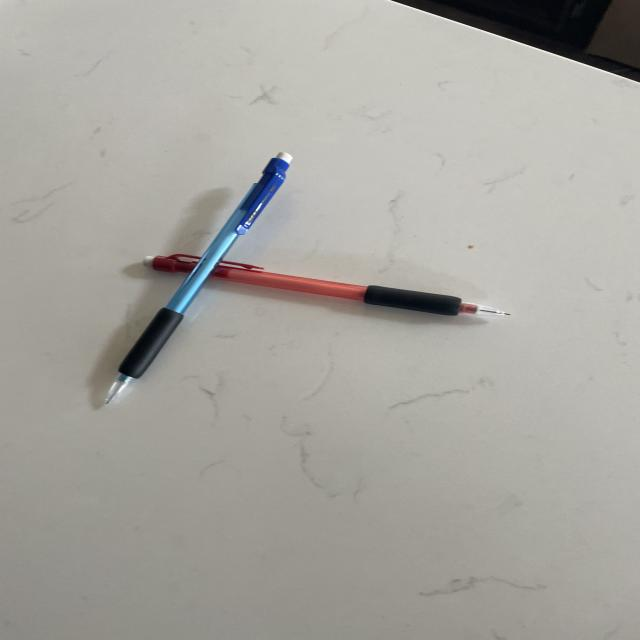mechanical-pencils: (102, 149, 298, 412), (142, 247, 513, 328)
